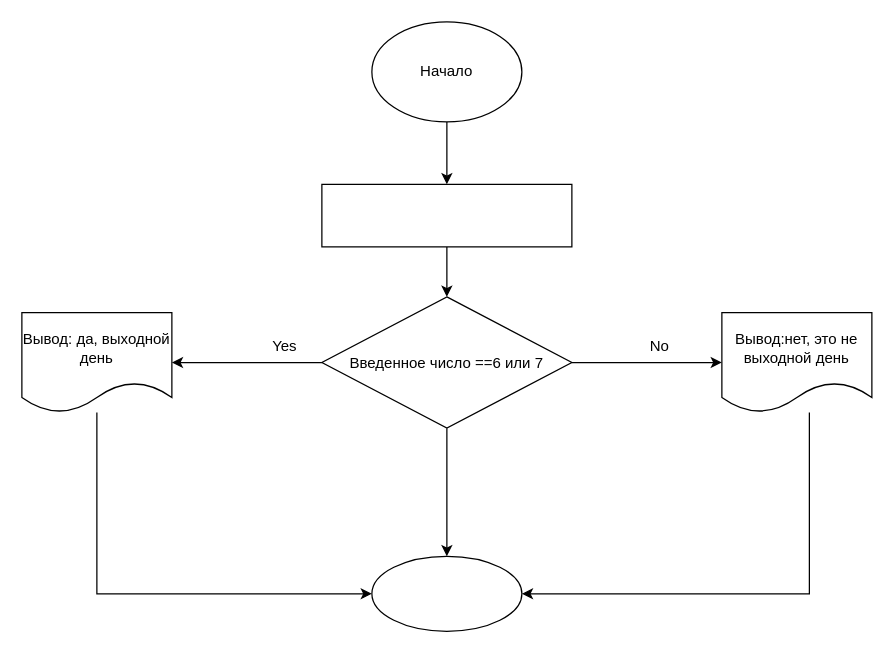
This 894x654 diagram has some shape labels left out. The shapes that lost their labels are listed below. From the top down, each one's box as (x1, y1, x2, y2) in pixels, then its label:
(321, 183, 572, 247): Введите число от 1 до 7
(371, 555, 522, 631): Конец
